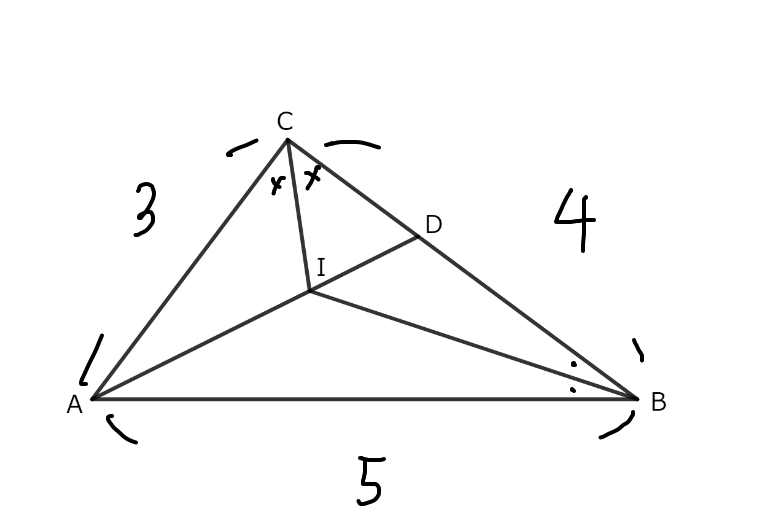Angle_Point: (566, 357, 580, 371), (566, 380, 580, 393)
Angle_x: (301, 164, 325, 193), (267, 169, 287, 197)
